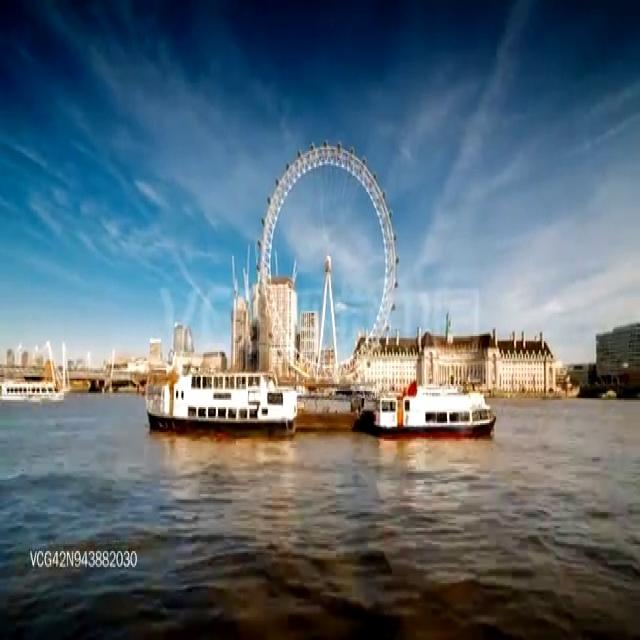passenger ship: (147, 363, 294, 432), (374, 381, 494, 432), (0, 366, 65, 404)
